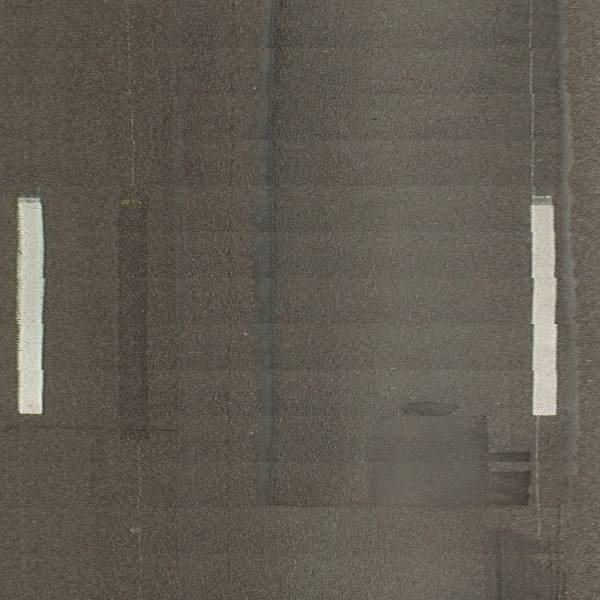road_damage: (250, 1, 283, 510), (477, 408, 537, 515), (403, 397, 465, 420)
